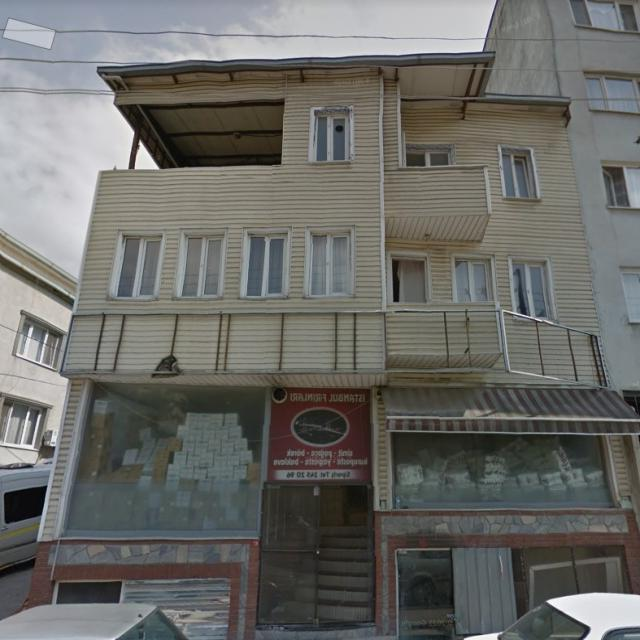Building: (25, 52, 640, 640)
